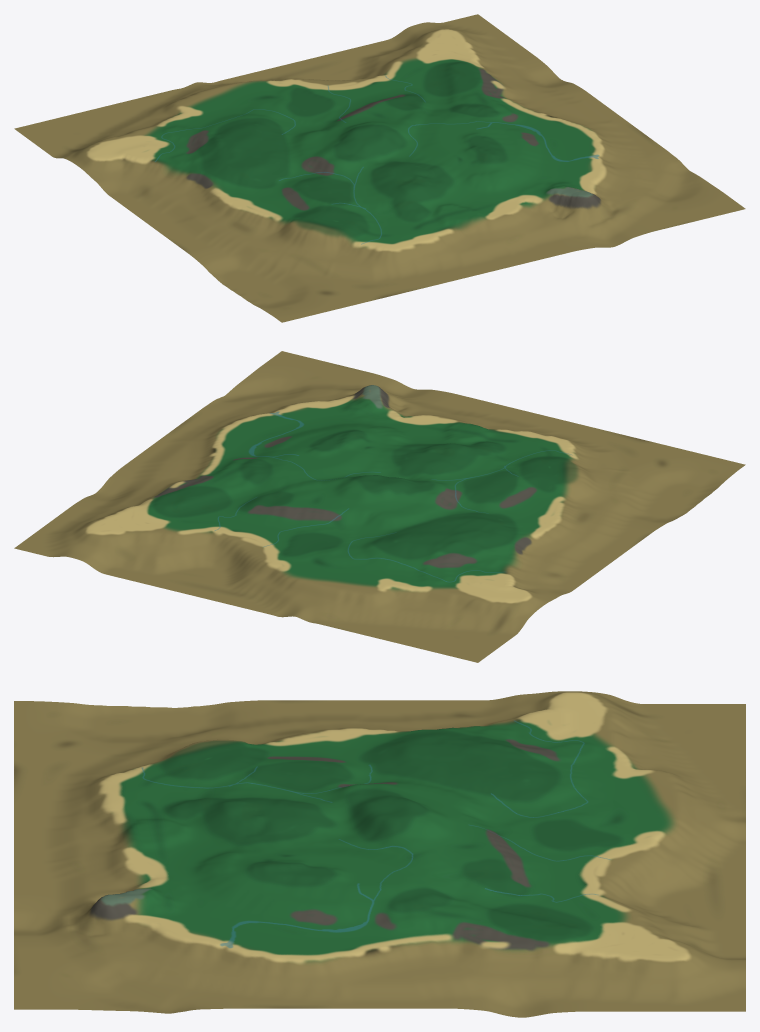
Rendered from Fullisland.fbx.
3 renders of one model, top to bottom at view 1: azimuth 30°, elevation 25°; view 2: azimuth 150°, elevation 25°; view 3: azimuth 270°, elevation 25°, orthographic. The views are drawn at different scales.
Parts seen in each view (by area): view 1: land; view 2: land; view 3: land.
Part boxes in pixels (bbox=[...]): land: bbox=[14, 14, 745, 322]; land: bbox=[14, 351, 745, 662]; land: bbox=[14, 691, 745, 1017].
Size of the model in its own units: 5000 by 390 by 5000.
